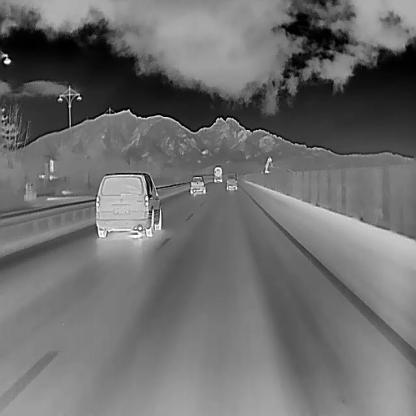car: (95, 173, 161, 238), (188, 174, 205, 194), (212, 165, 222, 183), (226, 173, 237, 189)
